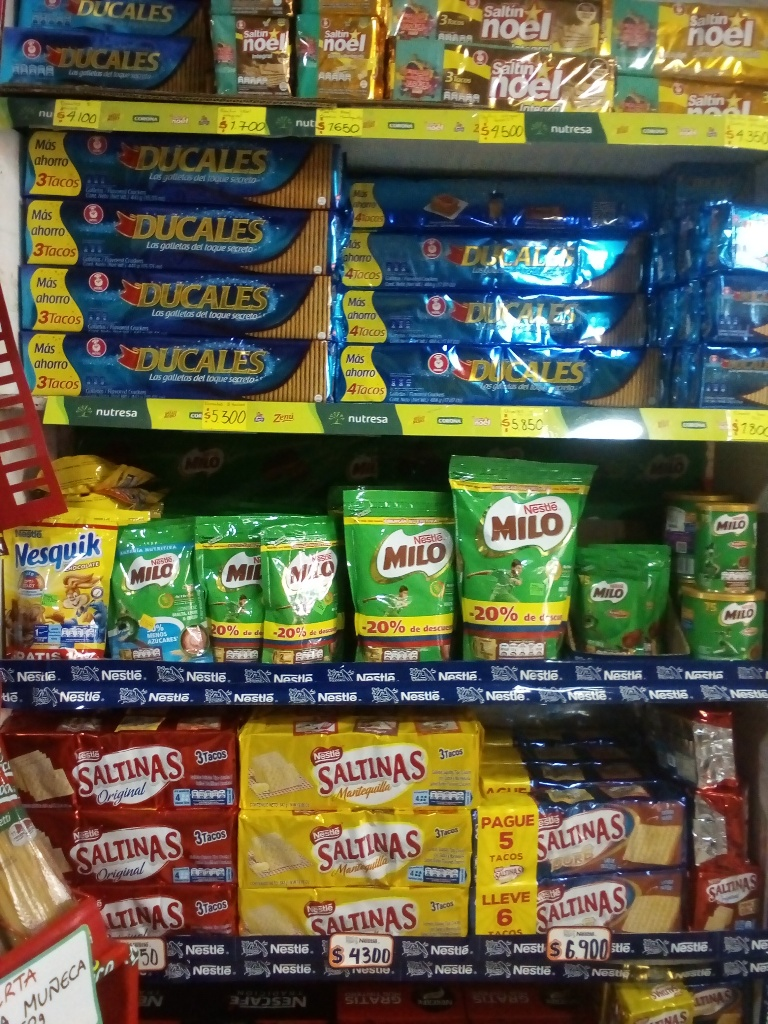COL0170203DYP10000: (581, 533, 675, 655)
COL0170203DYP25000: (195, 510, 273, 666)
COL0170203DYP50000: (333, 482, 459, 667)
COL0170203LAT20000: (677, 492, 765, 591)
COL0170203LAT40000: (676, 593, 765, 654)
COL0170205DYP20000: (112, 527, 213, 665)
